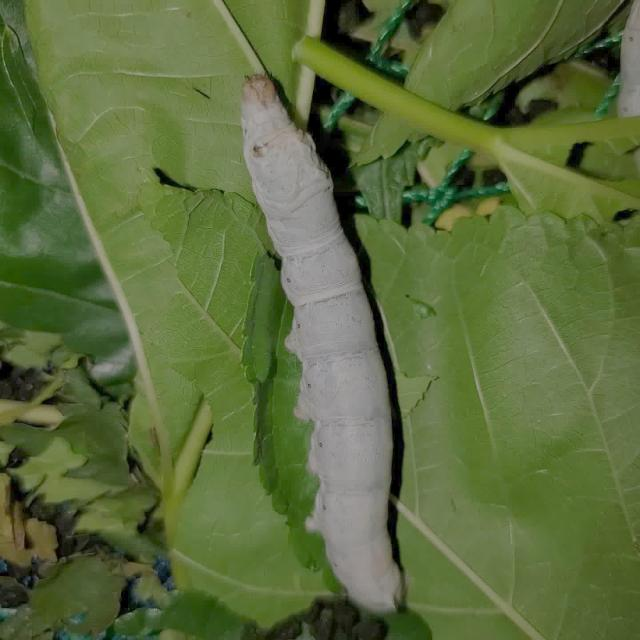Healthy: (187, 52, 458, 640)
